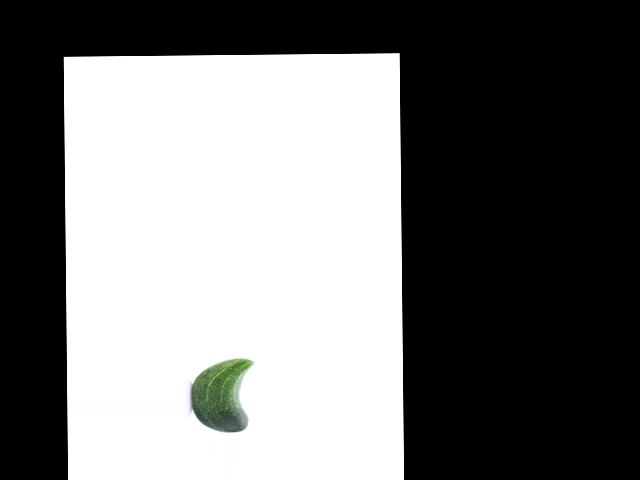cucumber: (191, 357, 254, 432)
